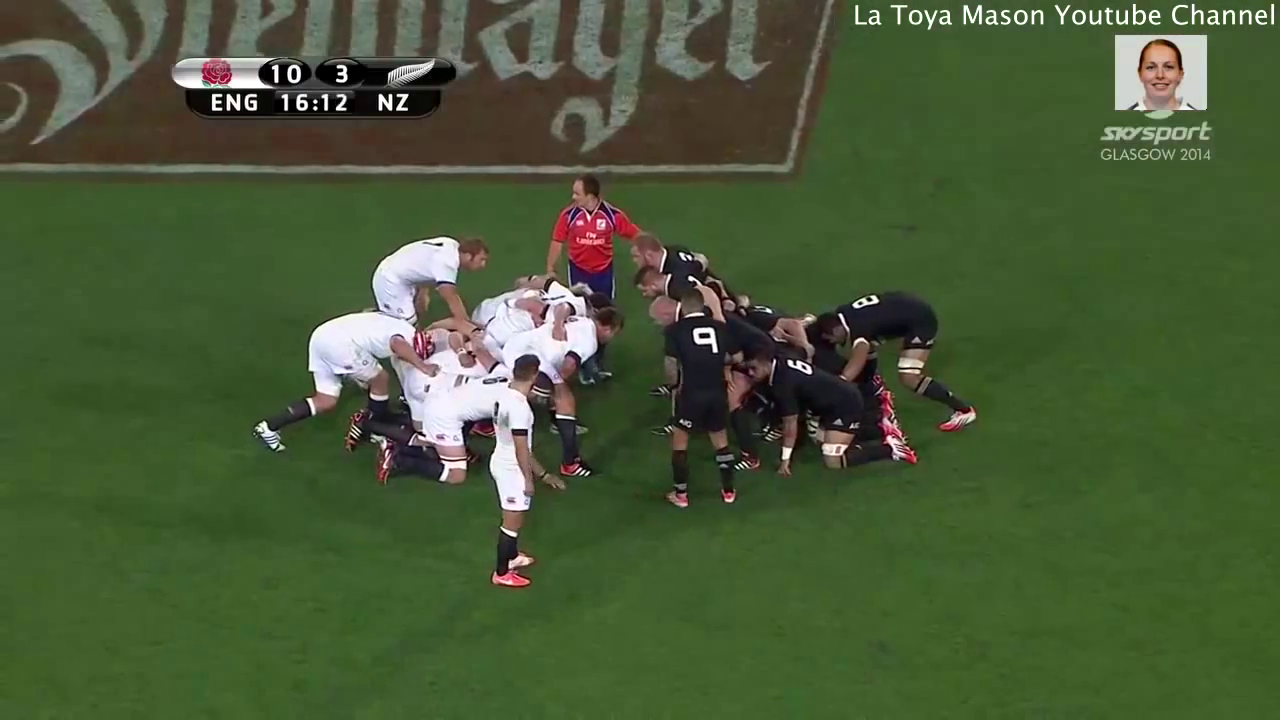player: (811, 289, 984, 430), (258, 304, 392, 453), (475, 350, 548, 596), (661, 294, 746, 505), (364, 227, 499, 317), (540, 165, 631, 289)
